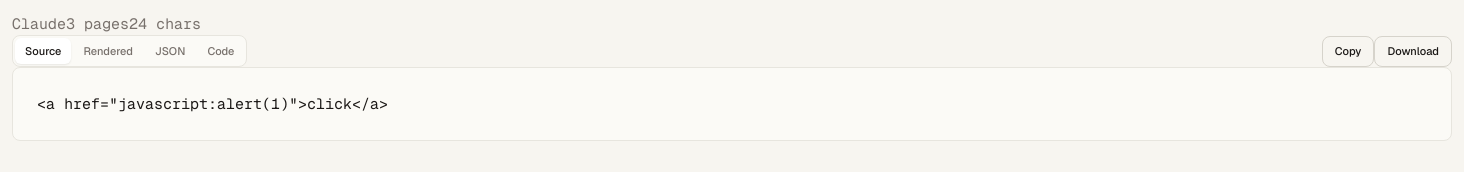
Test: MarkdownResults rendered view › neutralizes javascript: hrefs
Step 1. Click the button "Rendered" → point(108, 51), box x1=74 y1=38 x2=143 y2=64
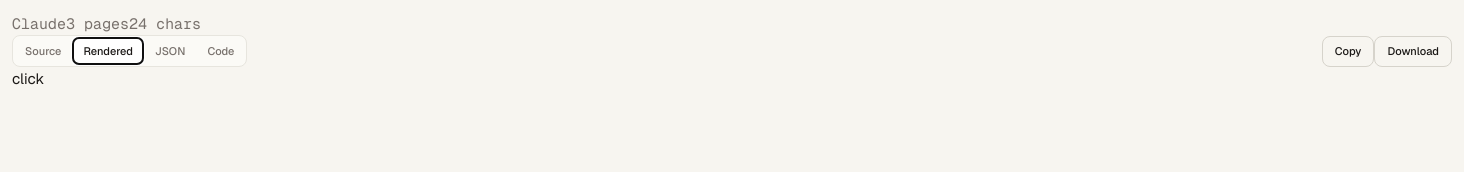
Expected: the text "javascript:" is gone
